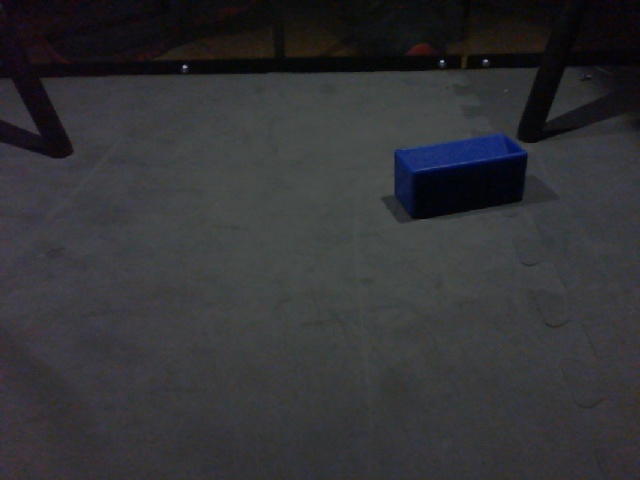BlueSample: (388, 131, 528, 222)
